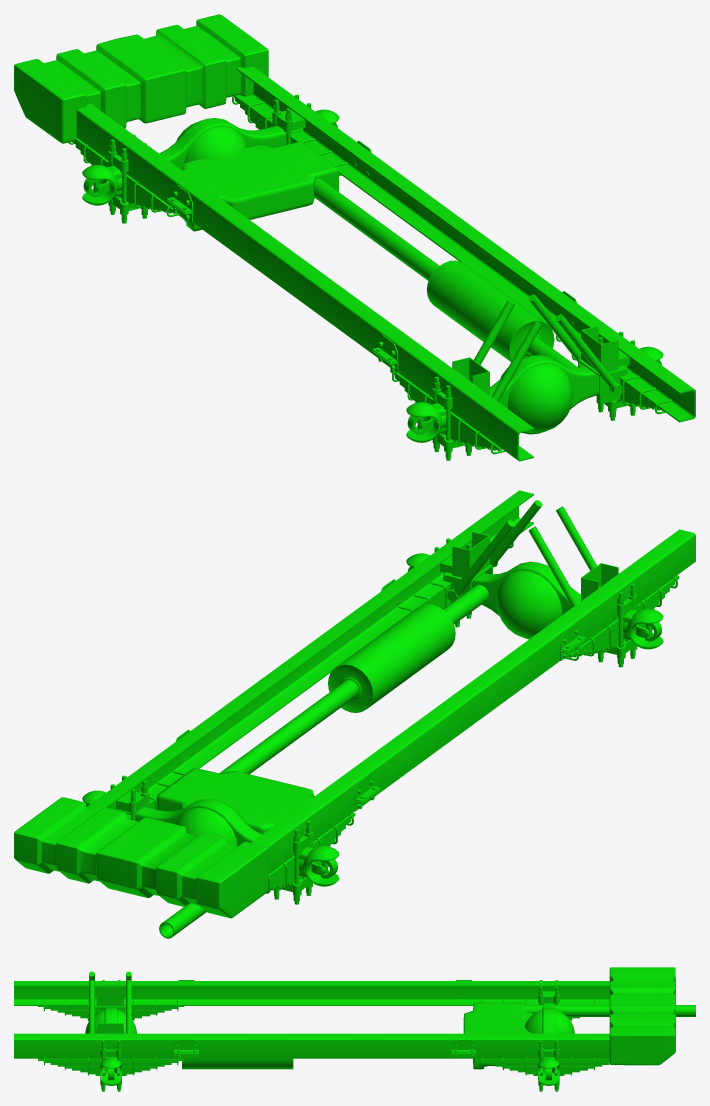
Rendered from FHXY_02BX_A2_DiPan_MD_1_low_2_exp.fbx.
The picture shows the model from 3 angles, top to bottom: view 1: azimuth 30°, elevation 25°; view 2: azimuth 150°, elevation 25°; view 3: azimuth 270°, elevation 25°; orthographic projection. The views are drawn at different scales.
Visible parts, largest first — view 1: FHXY_02BX_A2_DiPan_MD_A10_low, mirrored_x_1, FHXY_02BX_A2_DiPan_MD_A6_low, FHXY_02BX_A2_DiPan_MD_A8_low, FHXY_02BX_A2_DiPan_MD_A9_low, FHXY_02BX_A2_DiPan_MD_A2_low, FHXY_02BX_A2_DiPan_MD_A2_low1, FHXY_02BX_A2_DiPan_MD_A3_low, mirrored_x_10, mirrored_x_6, mirrored_x_8, mirrored_x_4 (+5 smaller); view 2: FHXY_02BX_A2_DiPan_MD_A10_low, mirrored_x_1, FHXY_02BX_A2_DiPan_MD_A6_low, FHXY_02BX_A2_DiPan_MD_A8_low, FHXY_02BX_A2_DiPan_MD_A9_low, FHXY_02BX_A2_DiPan_MD_A2_low, FHXY_02BX_A2_DiPan_MD_A2_low1, FHXY_02BX_A2_DiPan_MD_A3_low, mirrored_x_10, mirrored_x_6, mirrored_x_4, mirrored_x_7 (+5 smaller); view 3: FHXY_02BX_A2_DiPan_MD_A6_low, mirrored_x_1, FHXY_02BX_A2_DiPan_MD_A10_low, FHXY_02BX_A2_DiPan_MD_A9_low, FHXY_02BX_A2_DiPan_MD_A5_low, FHXY_02BX_A2_DiPan_MD_A5_low1, FHXY_02BX_A2_DiPan_MD_A8_low, FHXY_02BX_A2_DiPan_MD_A2_low1, FHXY_02BX_A2_DiPan_MD_A11_low, FHXY_02BX_A2_DiPan_MD_A3_low, mirrored_x_6, mirrored_x_10 (+8 smaller).
Part boxes in pixels (<box>): FHXY_02BX_A2_DiPan_MD_A10_low: <box>14,14,268,143</box>; mirrored_x_1: <box>76,103,533,461</box>; FHXY_02BX_A2_DiPan_MD_A6_low: <box>234,66,695,422</box>; FHXY_02BX_A2_DiPan_MD_A8_low: <box>313,178,577,367</box>; FHXY_02BX_A2_DiPan_MD_A9_low: <box>177,141,338,231</box>; FHXY_02BX_A2_DiPan_MD_A2_low: <box>431,355,626,434</box>; FHXY_02BX_A2_DiPan_MD_A2_low1: <box>107,118,302,196</box>; FHXY_02BX_A2_DiPan_MD_A3_low: <box>528,294,627,404</box>; mirrored_x_10: <box>452,301,541,401</box>; mirrored_x_6: <box>390,369,505,454</box>; mirrored_x_8: <box>68,138,180,216</box>; mirrored_x_4: <box>406,402,446,442</box>; FHXY_02BX_A2_DiPan_MD_A10_low: <box>14,797,268,918</box>; mirrored_x_1: <box>251,529,695,873</box>; FHXY_02BX_A2_DiPan_MD_A6_low: <box>86,490,533,819</box>; FHXY_02BX_A2_DiPan_MD_A8_low: <box>219,584,488,774</box>; FHXY_02BX_A2_DiPan_MD_A9_low: <box>156,768,314,834</box>; FHXY_02BX_A2_DiPan_MD_A2_low: <box>442,561,638,640</box>; FHXY_02BX_A2_DiPan_MD_A2_low1: <box>118,799,313,877</box>; FHXY_02BX_A2_DiPan_MD_A3_low: <box>443,500,542,603</box>; mirrored_x_10: <box>528,506,618,607</box>; mirrored_x_6: <box>566,575,679,660</box>; mirrored_x_4: <box>623,608,663,649</box>; mirrored_x_7: <box>299,846,339,886</box>; FHXY_02BX_A2_DiPan_MD_A6_low: <box>14,1033,609,1058</box>; mirrored_x_1: <box>14,981,609,1005</box>; FHXY_02BX_A2_DiPan_MD_A10_low: <box>609,967,675,1065</box>; FHXY_02BX_A2_DiPan_MD_A9_low: <box>463,1002,532,1069</box>; FHXY_02BX_A2_DiPan_MD_A5_low: <box>38,1057,184,1075</box>; FHXY_02BX_A2_DiPan_MD_A5_low1: <box>475,1057,615,1075</box>; FHXY_02BX_A2_DiPan_MD_A8_low: <box>182,1058,293,1069</box>; FHXY_02BX_A2_DiPan_MD_A2_low1: <box>525,1003,574,1059</box>; FHXY_02BX_A2_DiPan_MD_A11_low: <box>524,1005,695,1016</box>; FHXY_02BX_A2_DiPan_MD_A3_low: <box>89,980,131,1033</box>; mirrored_x_6: <box>38,999,184,1021</box>; mirrored_x_10: <box>88,971,131,1016</box>.
Bounding box in the file's own units: 131 × 61.92 × 451.
